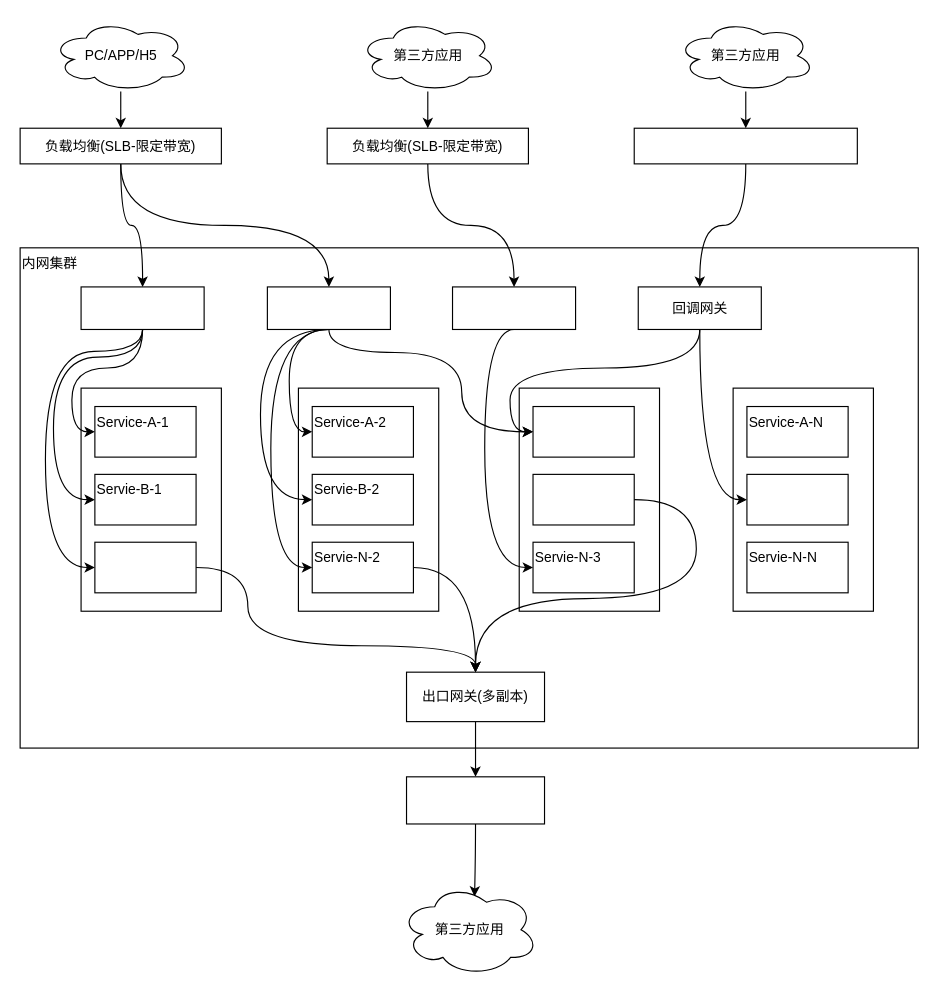
Image size: 938x996. Some labels were removed from this diagram. Each missing label, with the centre of its shape:
"API网关" belongs at pixel 513 307.
"B端网关" belongs at pixel 328 307.
"C端网关" belongs at pixel 142 307.
"NAT" belongs at pixel 475 800.
"Service-A-3" belongs at pixel 583 431.
"Servie-B-3" belongs at pixel 583 499.
"Servie-B-N" belongs at pixel 797 499.
"Servie-N-1" belongs at pixel 145 567.
"负载均衡(SLB-按量收费-不限带宽)" belongs at pixel 745 145.
